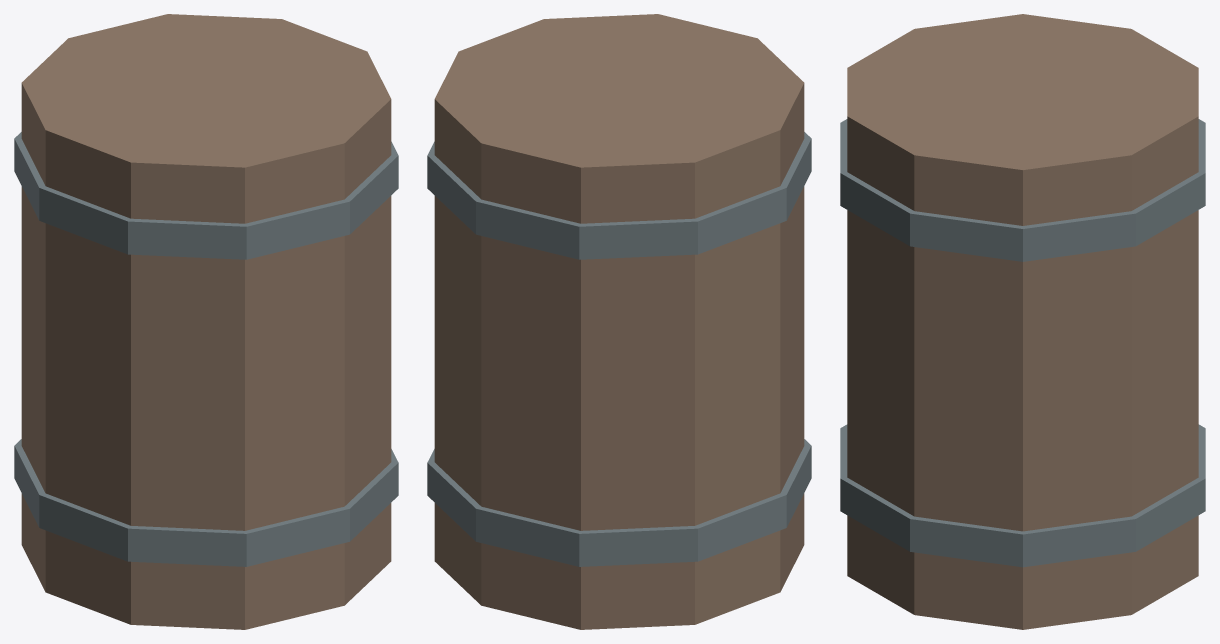
File: barril.glb
The picture shows the model from 3 angles, left to right: view 1: azimuth 30°, elevation 25°; view 2: azimuth 150°, elevation 25°; view 3: azimuth 270°, elevation 25°; orthographic projection.
Visible parts, largest first — view 1: part_000, part_002, part_001; view 2: part_000, part_002, part_001; view 3: part_000, part_002, part_001.
Boxes of the visible parts, x1,y1,x2,y2 form: part_000: [21, 14, 391, 629]; part_002: [14, 132, 398, 259]; part_001: [14, 439, 398, 566]; part_000: [434, 14, 804, 629]; part_002: [427, 132, 811, 259]; part_001: [427, 439, 811, 566]; part_000: [847, 14, 1198, 629]; part_002: [840, 119, 1205, 261]; part_001: [840, 424, 1205, 567].
Bounding box in the file's own units: 1.06 × 1.4 × 1.01.
